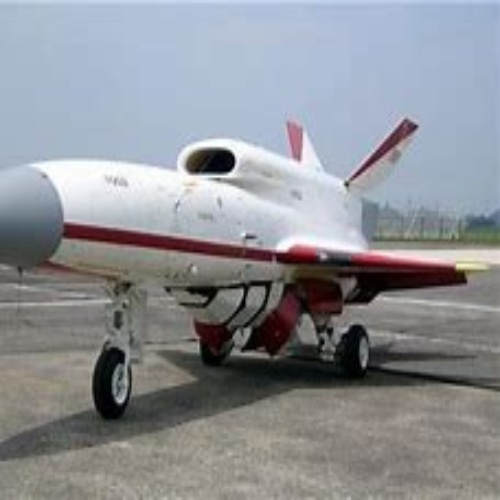uav341: (1, 120, 469, 407)
